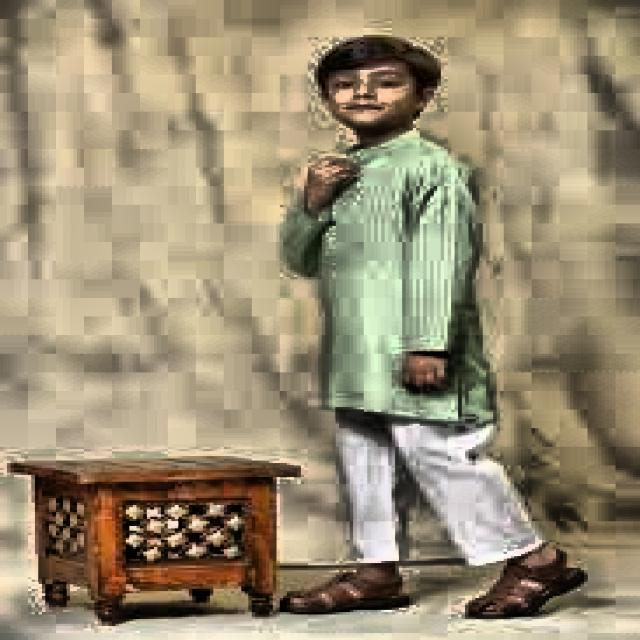Human: (263, 28, 597, 633)
